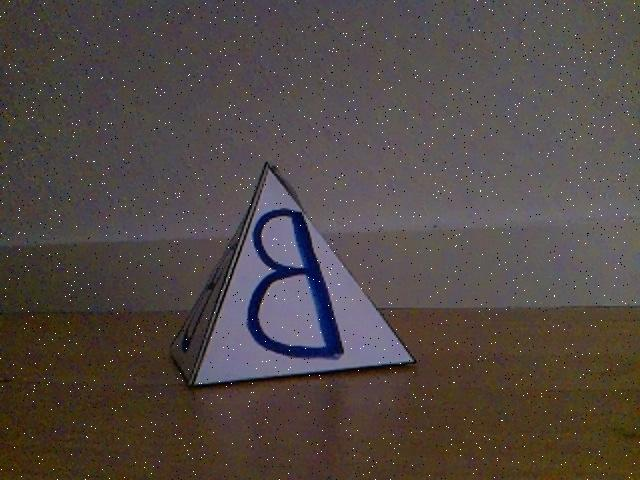B: (168, 162, 412, 384)
